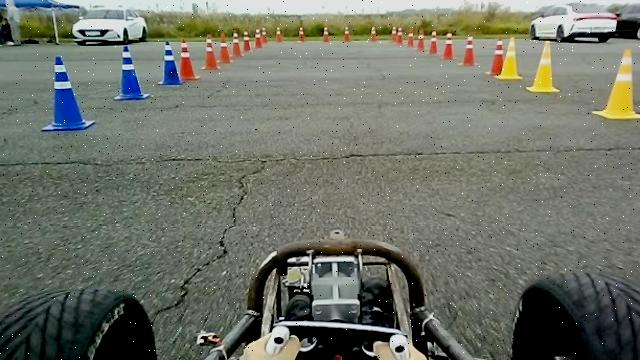blue cone: (40, 54, 95, 131), (113, 45, 149, 100), (157, 40, 183, 85)
red cone: (178, 36, 200, 80), (485, 36, 504, 76), (200, 33, 220, 70), (457, 33, 477, 66), (218, 31, 232, 63), (441, 31, 454, 60), (231, 31, 244, 58), (427, 30, 437, 54), (415, 28, 425, 50), (254, 26, 263, 48), (243, 30, 251, 52), (394, 27, 403, 43), (406, 30, 414, 47)
yellow cone: (591, 48, 640, 119), (525, 40, 559, 93)
